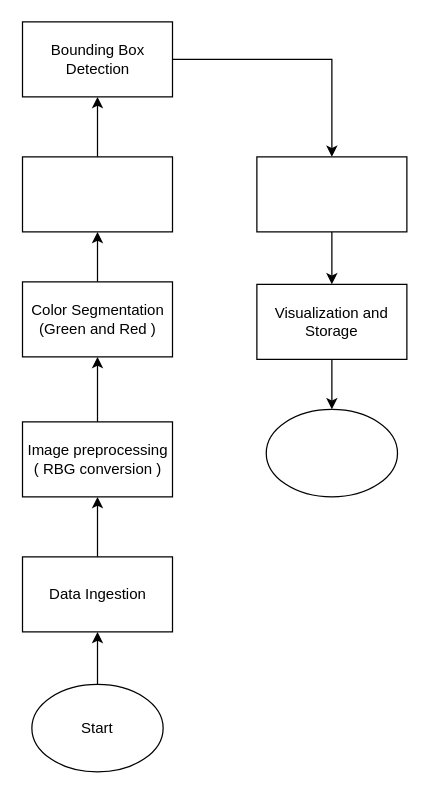
This 429x794 diagram has some shape labels left out. The centre of each missing label's shape, as x and y in pixels:
Apply Threshold: the point at 96,194
Compute IOU and Dice: the point at 331,194
End: the point at 331,452
